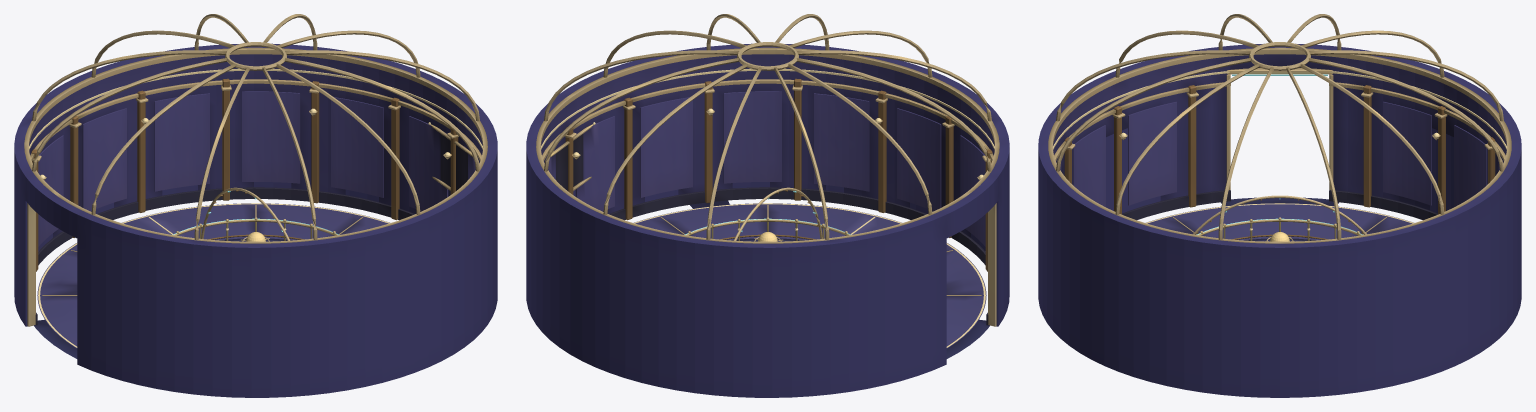
File: orrery_room.glb
3 views of the same model, side by side, from view 1: azimuth 30°, elevation 25°; view 2: azimuth 150°, elevation 25°; view 3: azimuth 270°, elevation 25° (orthographic).
Visible parts, largest first — view 1: orr_shell_m, orr_base_m; view 2: orr_shell_m, orr_base_m; view 3: orr_shell_m, orr_base_m.
Boxes of the visible parts, left/top/right/bottom form: orr_shell_m: left=14, top=14, right=497, bottom=397; orr_base_m: left=172, top=187, right=339, bottom=241; orr_shell_m: left=526, top=14, right=1009, bottom=397; orr_base_m: left=684, top=187, right=851, bottom=241; orr_shell_m: left=1038, top=14, right=1521, bottom=397; orr_base_m: left=1193, top=195, right=1366, bottom=241.
Bounding box in the file's own units: 14.6 × 8.28 × 14.59.
